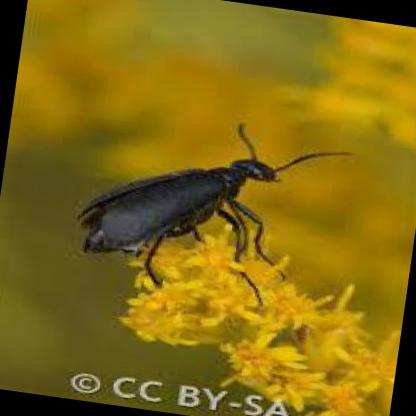blister beetle: (79, 128, 346, 286)
